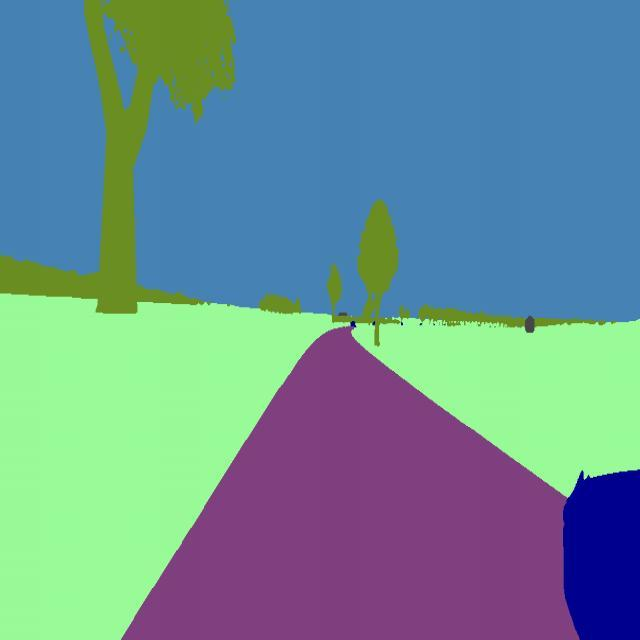unsafe: (561, 457, 640, 640)
